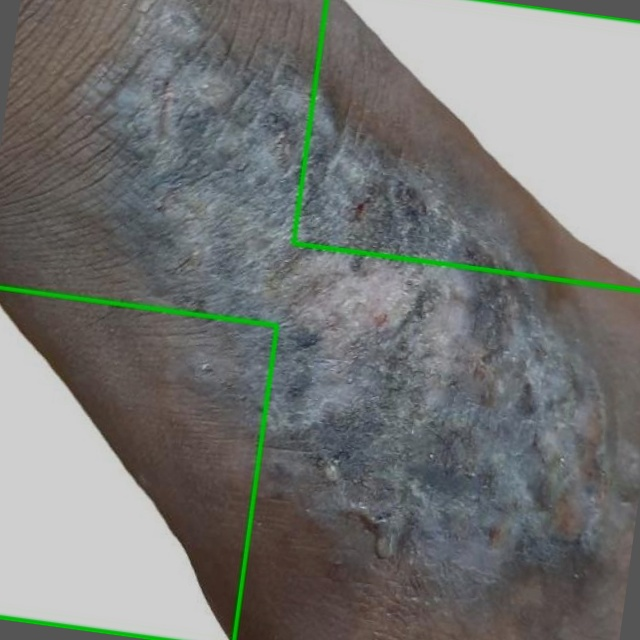Contact Dermatitis: (293, 0, 639, 290), (0, 288, 277, 639)
